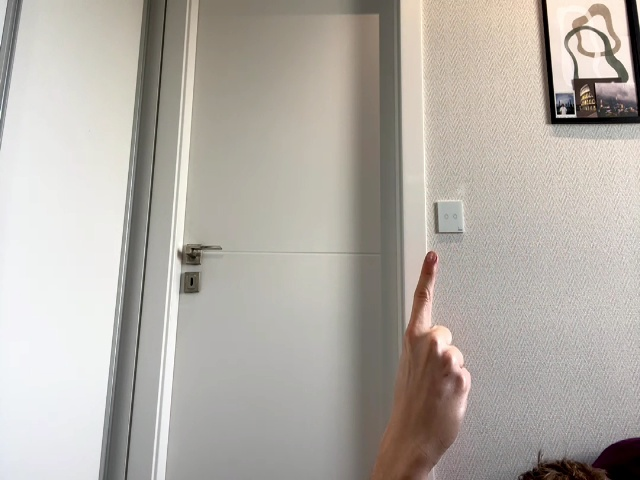D: (393, 251, 471, 454)
